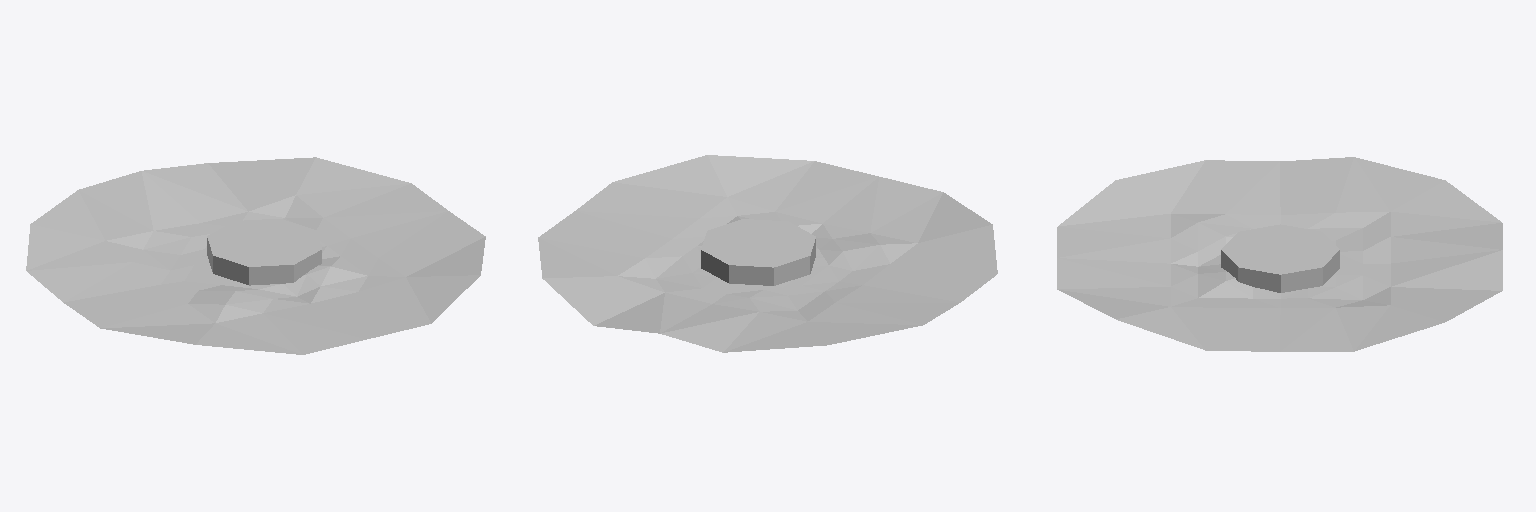
Rendered from ENVO_AustralianDesert.obj.
The picture shows the model from 3 angles: view 1: azimuth 30°, elevation 25°; view 2: azimuth 150°, elevation 25°; view 3: azimuth 270°, elevation 25°; orthographic projection.
Parts seen in each view (by area): view 1: AustralianDesert, AustralianDesertCollisionBox; view 2: AustralianDesert, AustralianDesertCollisionBox; view 3: AustralianDesert, AustralianDesertCollisionBox.
Boxes of the visible parts, box(x1,y1,x2,y2) form: AustralianDesert: box(26, 157, 485, 354); AustralianDesertCollisionBox: box(207, 219, 321, 285); AustralianDesert: box(538, 155, 997, 352); AustralianDesertCollisionBox: box(701, 219, 815, 285); AustralianDesert: box(1057, 157, 1502, 351); AustralianDesertCollisionBox: box(1221, 224, 1339, 292).
Bounding box in the file's own units: 39198 × 2094 × 39198.